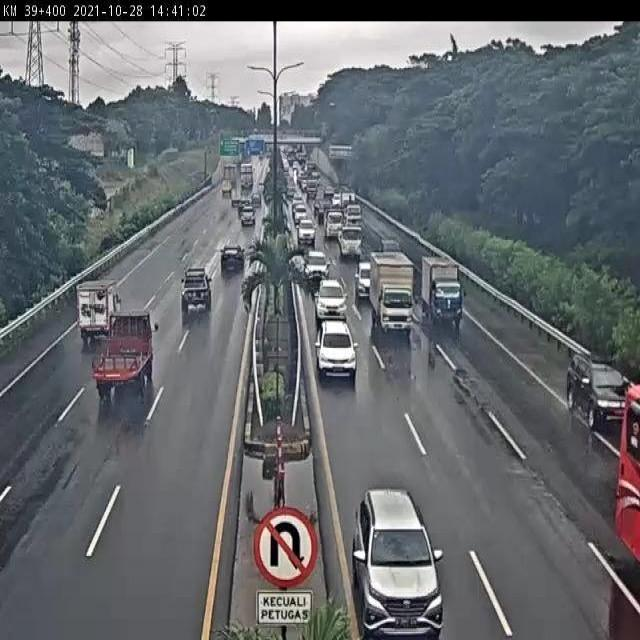car: (353, 488, 444, 637), (565, 347, 640, 432), (315, 318, 358, 382), (179, 266, 213, 314), (315, 277, 348, 320), (220, 241, 246, 271)
mid truck: (91, 311, 156, 398)
small truck: (75, 279, 120, 340)
truck-m-: (369, 249, 414, 335)
truck-s-: (422, 255, 464, 328)
